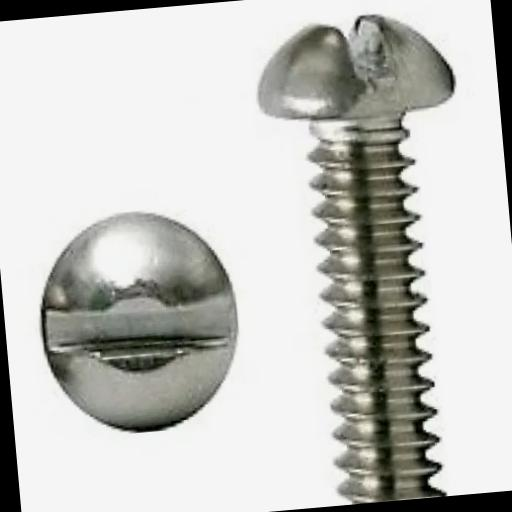Slotted: (31, 202, 250, 444)
